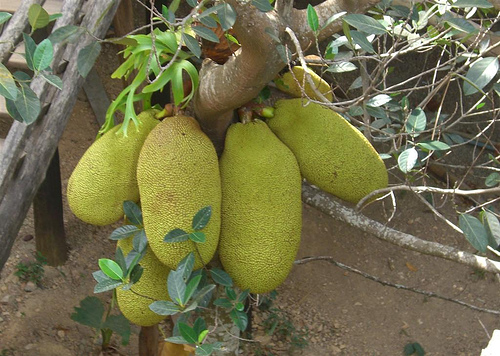jackfruit: (219, 109, 303, 294), (137, 111, 219, 271), (67, 108, 161, 225)
